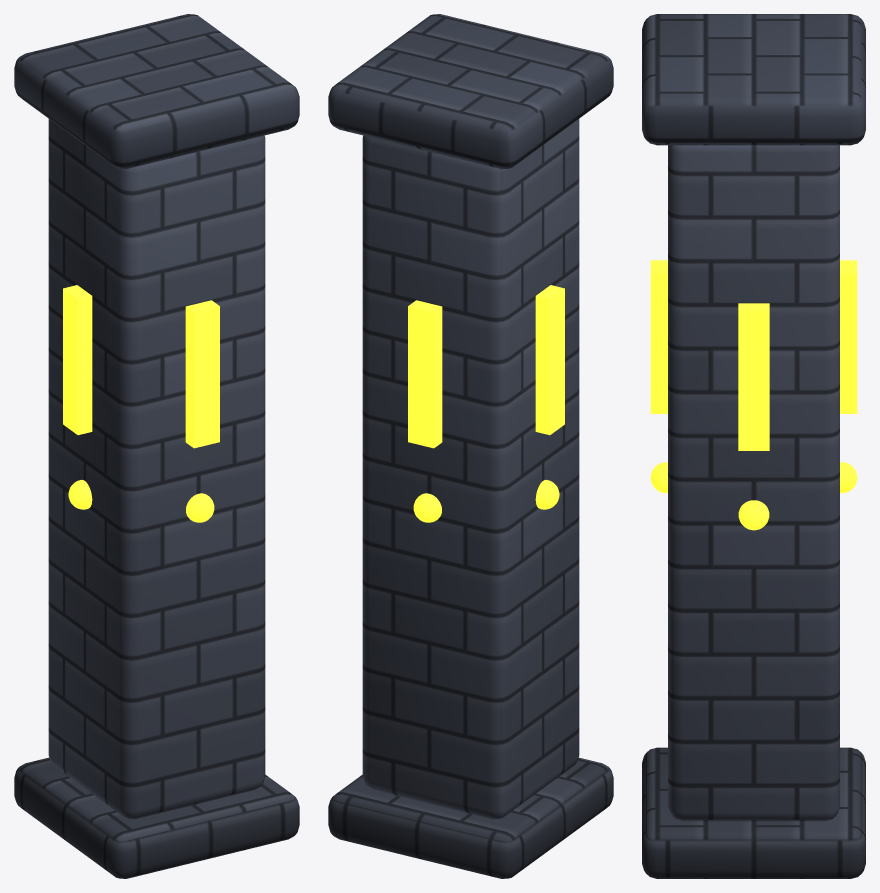
Rendered from ShrinePillar.fbx.
The picture shows the model from 3 angles, left to right: view 1: azimuth 30°, elevation 25°; view 2: azimuth 150°, elevation 25°; view 3: azimuth 270°, elevation 25°; orthographic projection. The views are drawn at different scales.
Visible parts, largest first — view 1: ShrinePillar_Body; view 2: ShrinePillar_Body; view 3: ShrinePillar_Body.
Part boxes in pixels (x1,y1,x2,y2): ShrinePillar_Body: (14, 14, 299, 878); ShrinePillar_Body: (328, 14, 613, 878); ShrinePillar_Body: (642, 14, 865, 878).
Size of the model in its own units: 1.3 by 5 by 1.3.
2 materials, 1 textured.
